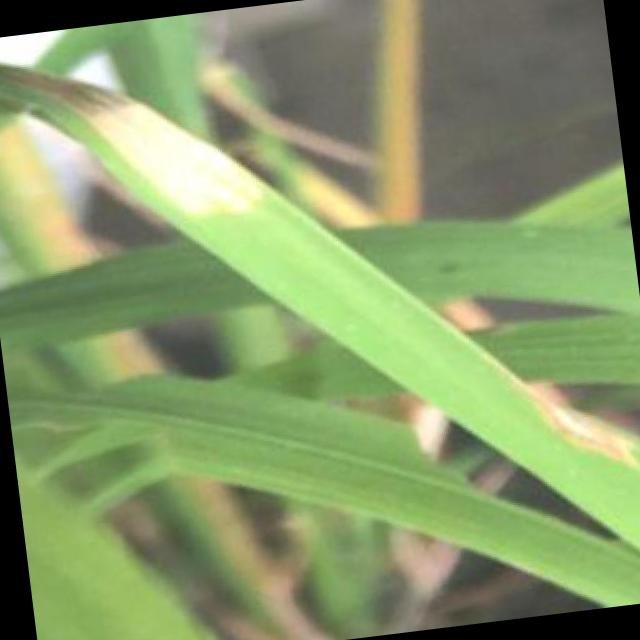Rice_Blast: (518, 363, 630, 492)
